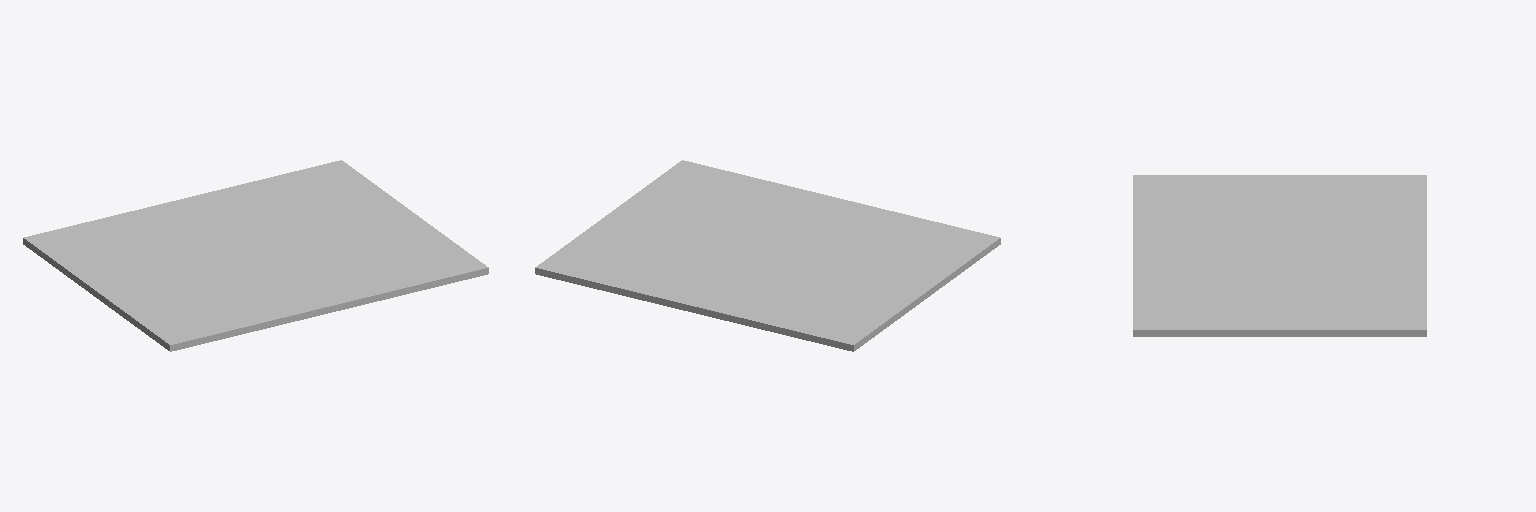
The model's file is floor.obj.
3 views of the same model, side by side, from view 1: azimuth 30°, elevation 25°; view 2: azimuth 150°, elevation 25°; view 3: azimuth 270°, elevation 25° (orthographic).
Parts seen in each view (by area): view 1: object 1; view 2: object 1; view 3: object 1.
Part boxes in pixels (x1,y1,x2,y2): object 1: (23, 160, 488, 351); object 1: (535, 160, 1000, 351); object 1: (1133, 175, 1426, 336).
Bounding box in the file's own units: 5 × 0.1 × 4.